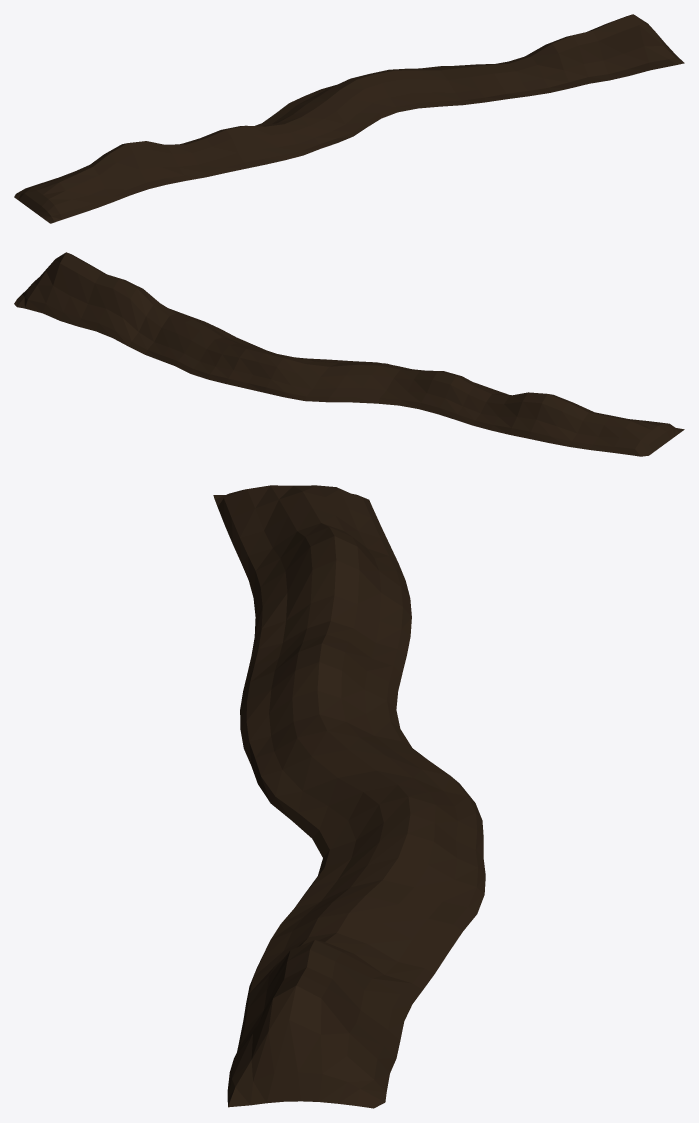
Rendered from Island_D01_Long01_Model.fbx.
3 renders of one model, top to bottom at view 1: azimuth 30°, elevation 25°; view 2: azimuth 150°, elevation 25°; view 3: azimuth 270°, elevation 25°, orthographic. The views are drawn at different scales.
Visible parts, largest first — view 1: Island_D_Long01; view 2: Island_D_Long01; view 3: Island_D_Long01.
Boxes of the visible parts, box(x1,y1,x2,y2) form: Island_D_Long01: box(14, 14, 684, 223); Island_D_Long01: box(14, 252, 684, 456); Island_D_Long01: box(213, 485, 485, 1108).
Bounding box in the file's own units: 272 × 20.38 × 50.78.
